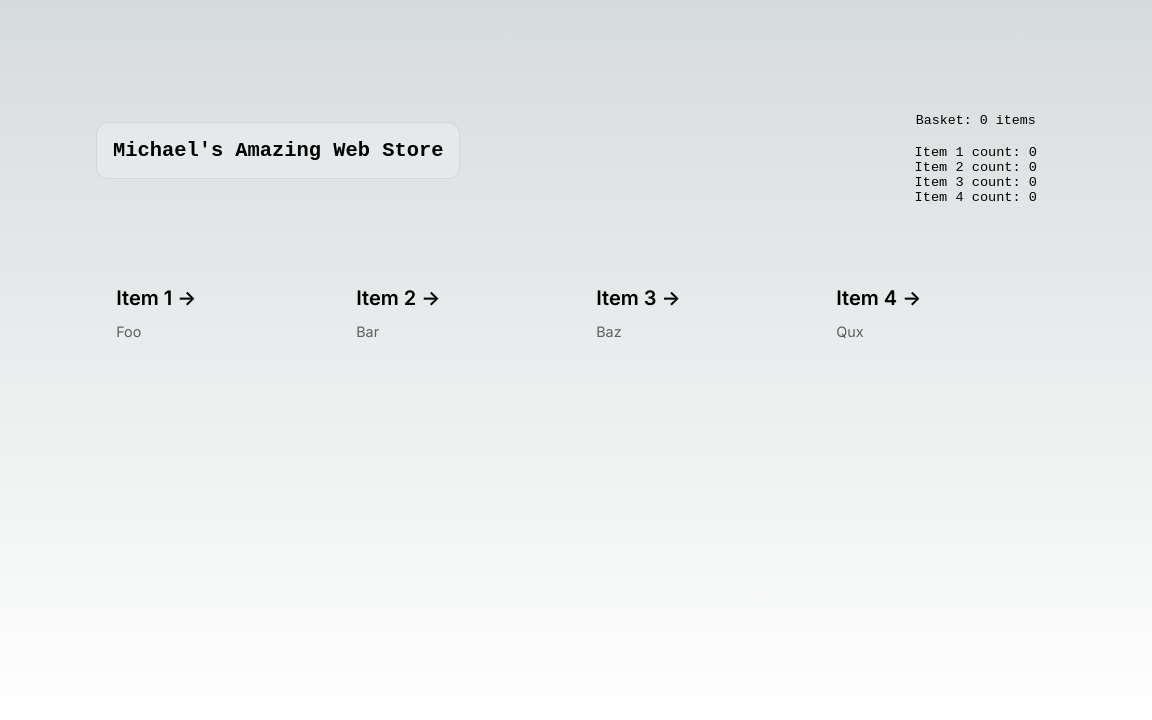
Test: Home › updates the item count correctly when the same item is added multiple times
The image size is (1152, 720).
Click the button named "Add to basket". click: (216, 314)
box: x1=96 y1=269 x2=336 y2=360
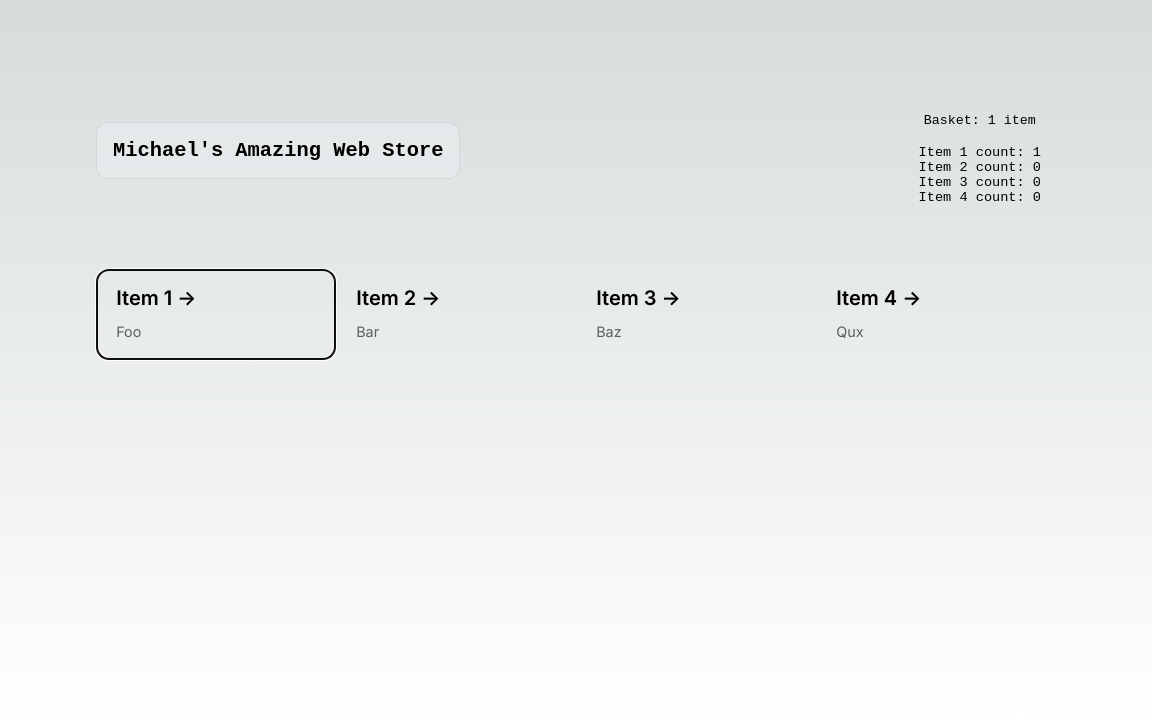
Click the button named "Add to basket". click: (216, 314)
box: x1=96 y1=269 x2=336 y2=360
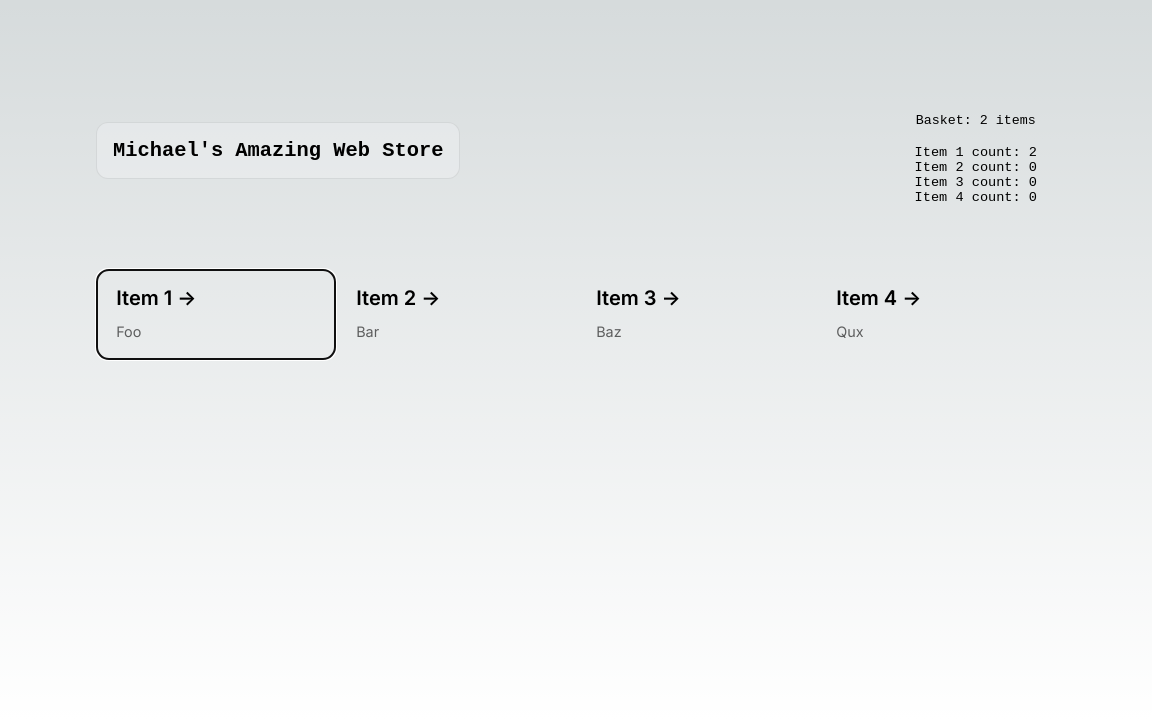
Now the button "Basket: 2 items" is shown, box x1=896 y1=96 x2=1056 y2=145
Now the list item "Item 1 count: 2" is shown, box x1=915 y1=145 x2=1037 y2=160
